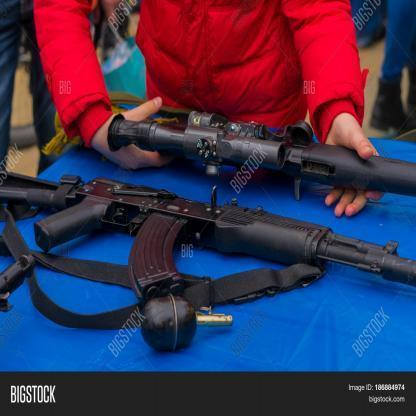Grenade: (142, 294, 234, 351)
Gun: (0, 173, 416, 304), (106, 105, 416, 201)
